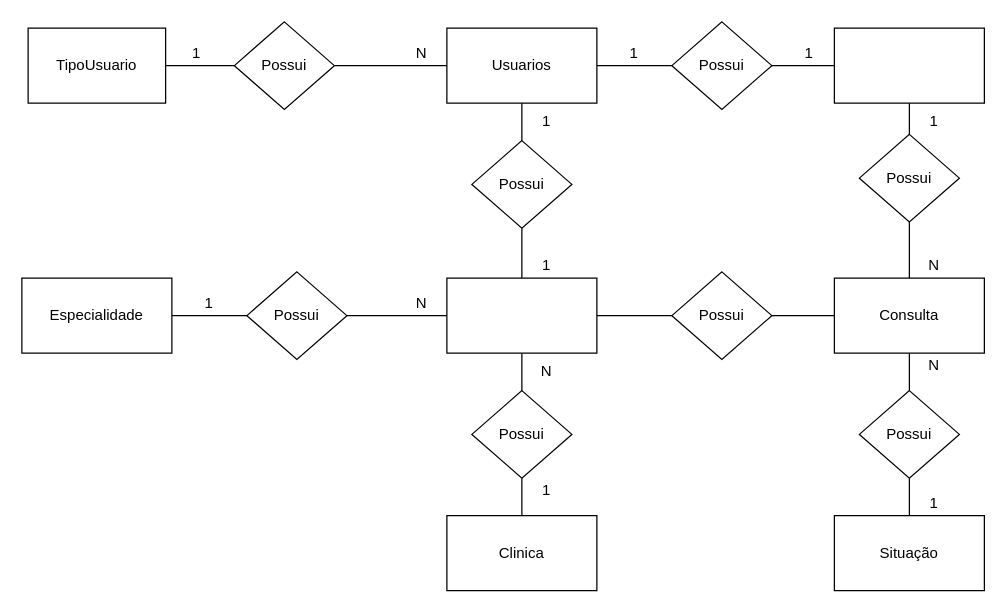
Some shapes in this 1006 by 613 pixel diagram are drawn without their labels. The shapes that lost their labels are listed below. From the top down, each one's centre as x and y in pixels, then its label:
At point (908, 65): "Paciente".
At point (521, 315): "Medico".
